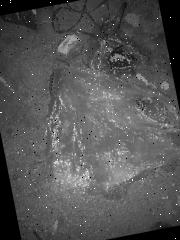general: (98, 46, 136, 84), (55, 31, 84, 56)
plastic: (26, 46, 180, 207)
